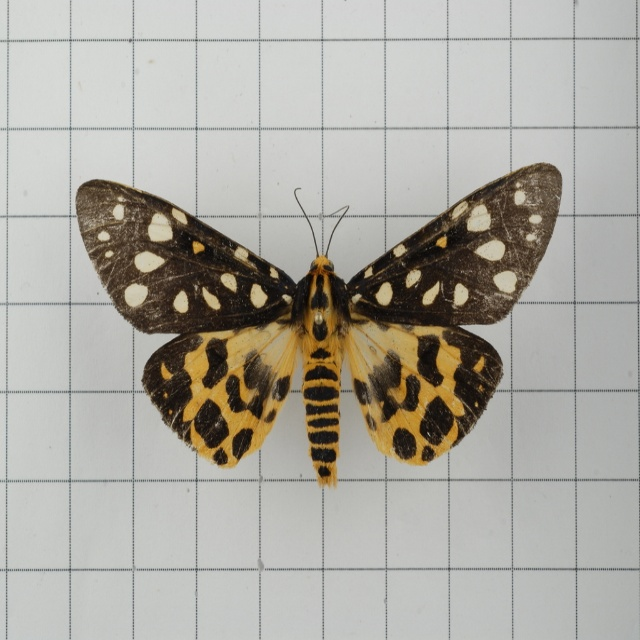Butterfly: (66, 158, 566, 476)
